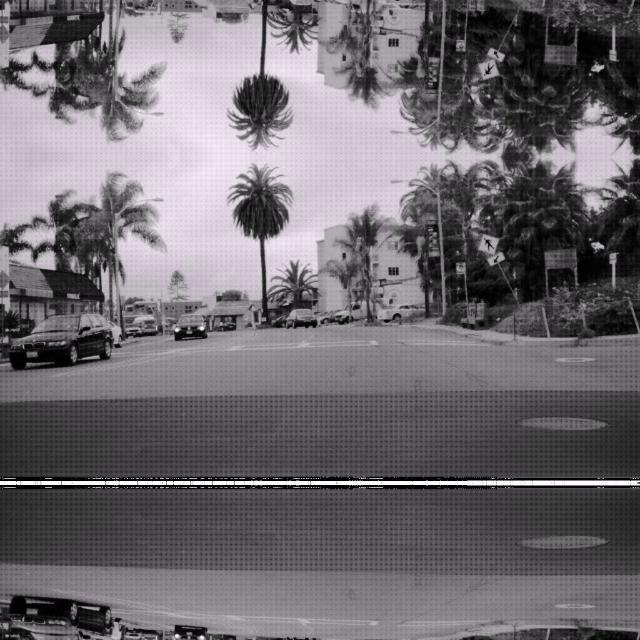pedestrianCrossing: (478, 231, 498, 253), (478, 59, 498, 81)
